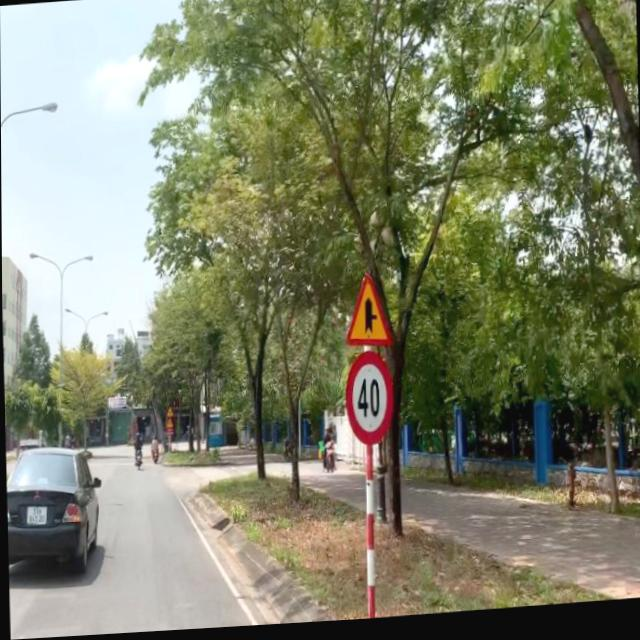Duong giao nhau cung cap: (164, 407, 172, 419)
Giao nhau voi duong khong uu tien ben phai: (342, 273, 393, 357)
Nguoi di bo cat ngang: (165, 419, 173, 429)
Toc do toi da cho phep: (346, 358, 394, 448)
